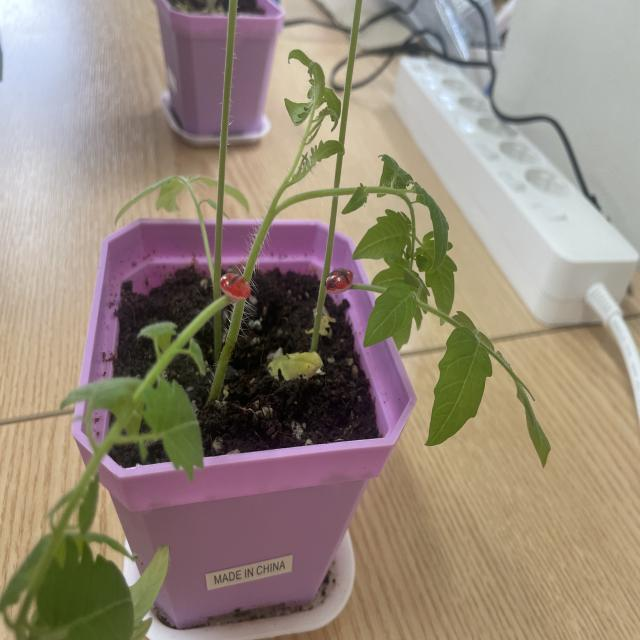bug: (214, 262, 256, 314), (317, 250, 355, 300)
